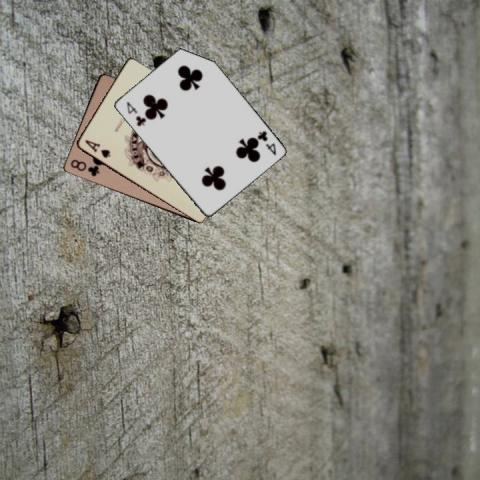4c: (123, 99, 147, 128), (254, 128, 277, 157)
8c: (67, 157, 101, 178)
As: (82, 138, 112, 160)
